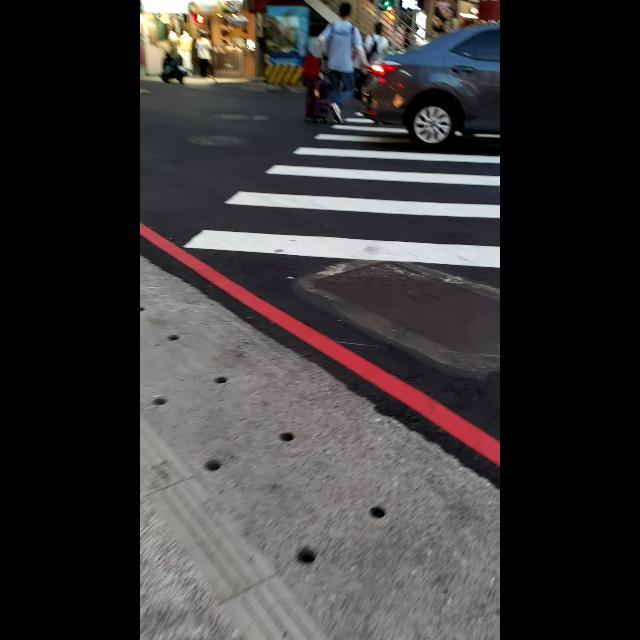sidewalk: (184, 94, 500, 268)
